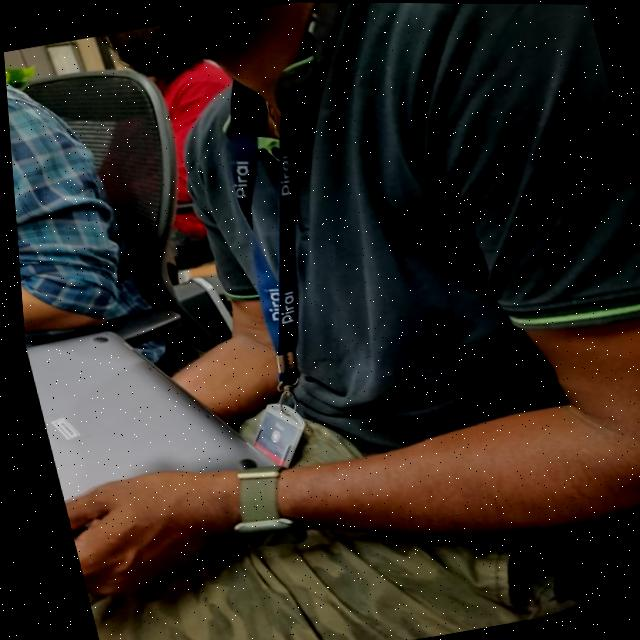id_card: (137, 10, 429, 474)
